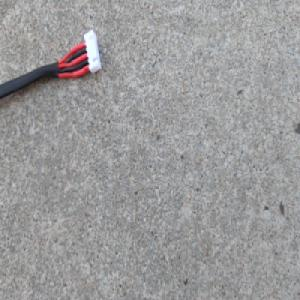Wire: (0, 27, 104, 105)
